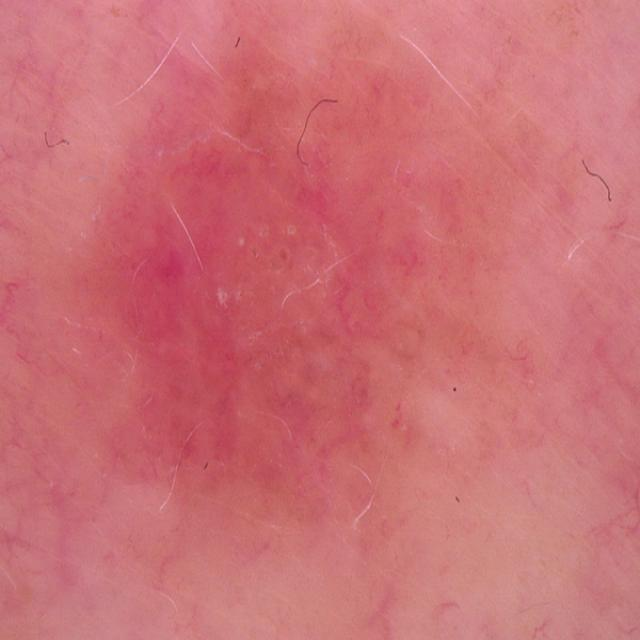Skin-Cancer Pigmented benign keratosis: (22, 47, 580, 633)
